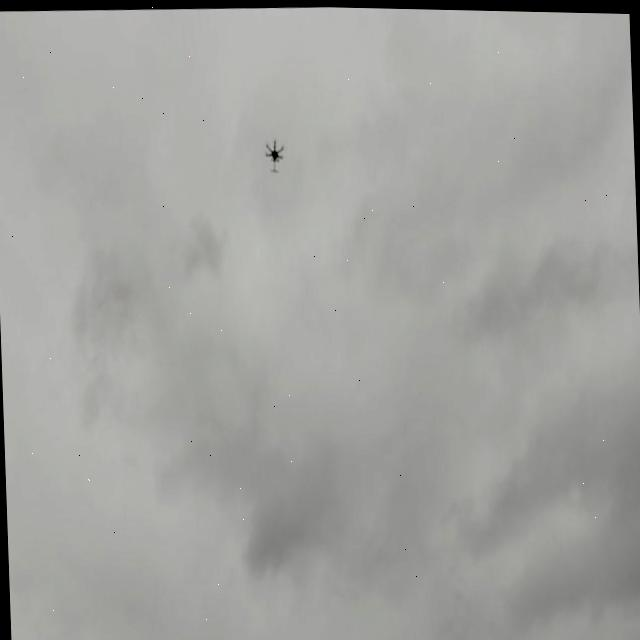drone: (262, 135, 286, 173)
